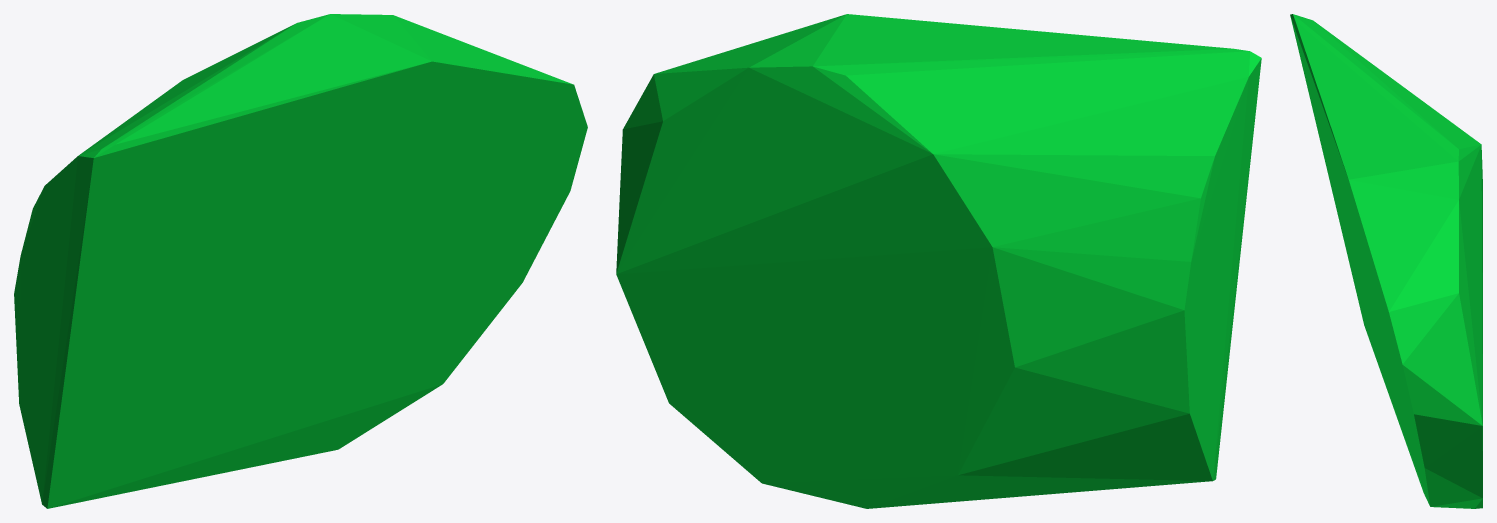
File: hip-yaw-housing_convex_piece_001.obj
3 views of the same model, side by side, from view 1: azimuth 30°, elevation 25°; view 2: azimuth 150°, elevation 25°; view 3: azimuth 270°, elevation 25° (orthographic). The views are drawn at different scales.
Bounding box in the file's own units: 0.0855 × 0.0632 × 0.0313.
